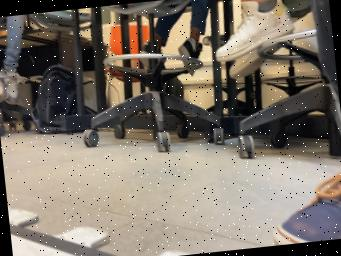street: (9, 224, 116, 256)
